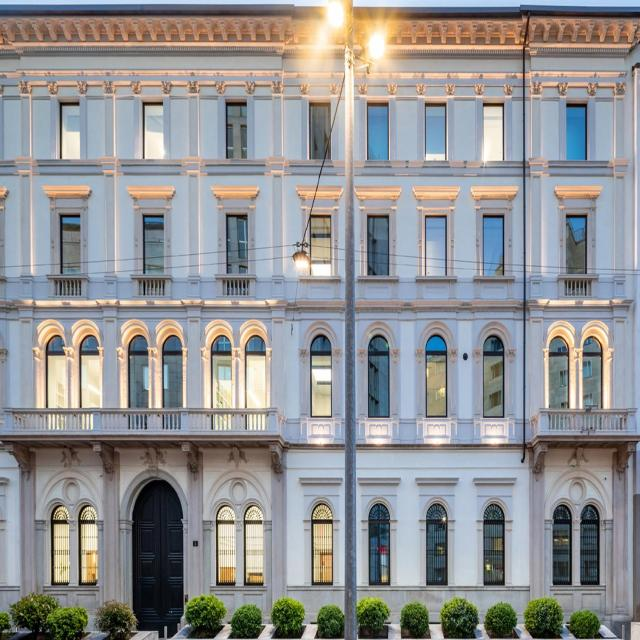door: (133, 481, 183, 631)
railing: (4, 405, 275, 434), (543, 409, 637, 431), (217, 274, 254, 298), (48, 275, 84, 297), (561, 275, 596, 297), (135, 275, 166, 297)
window: (244, 332, 267, 404), (46, 330, 66, 406), (79, 330, 99, 406), (127, 328, 147, 404), (162, 329, 182, 405), (211, 331, 231, 407), (547, 329, 567, 405), (312, 340, 332, 416), (369, 508, 389, 584), (368, 338, 388, 414), (428, 339, 448, 415), (484, 336, 504, 412), (584, 332, 604, 408), (48, 506, 68, 582), (81, 506, 101, 582), (215, 508, 235, 584), (246, 505, 266, 581), (312, 504, 332, 580), (426, 507, 446, 583), (484, 504, 504, 580), (552, 507, 572, 583), (581, 508, 601, 584), (59, 101, 82, 160), (225, 100, 248, 159), (59, 216, 82, 275), (225, 216, 248, 274), (369, 217, 390, 279), (369, 102, 390, 163), (482, 102, 503, 163), (482, 218, 503, 279), (565, 96, 586, 157), (565, 212, 586, 273), (144, 98, 164, 160), (310, 97, 330, 159), (144, 213, 164, 275), (426, 215, 446, 277), (310, 213, 330, 274), (426, 100, 446, 161)
